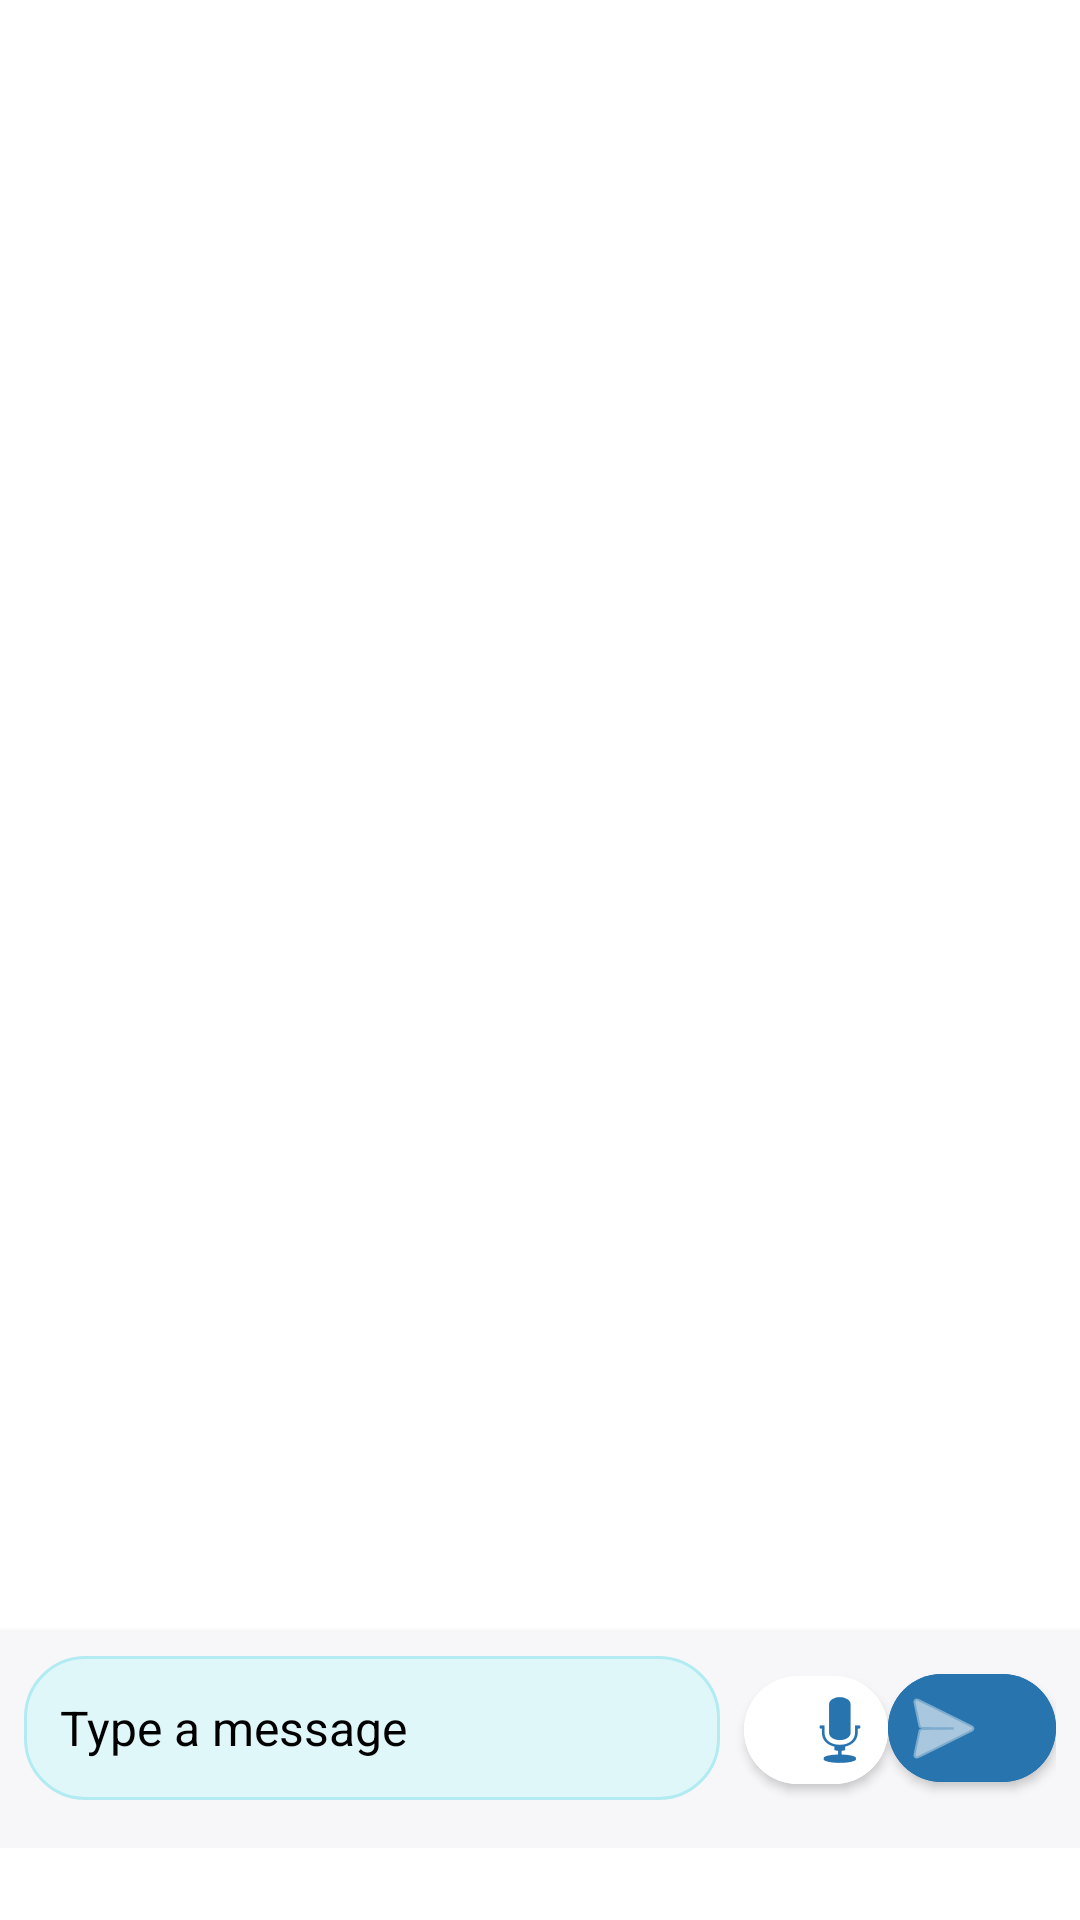

Where to tap for icons on this 1080 × 1920 app screen, as (x=x, y=y):
Voice Input: (x=840, y=1730)
